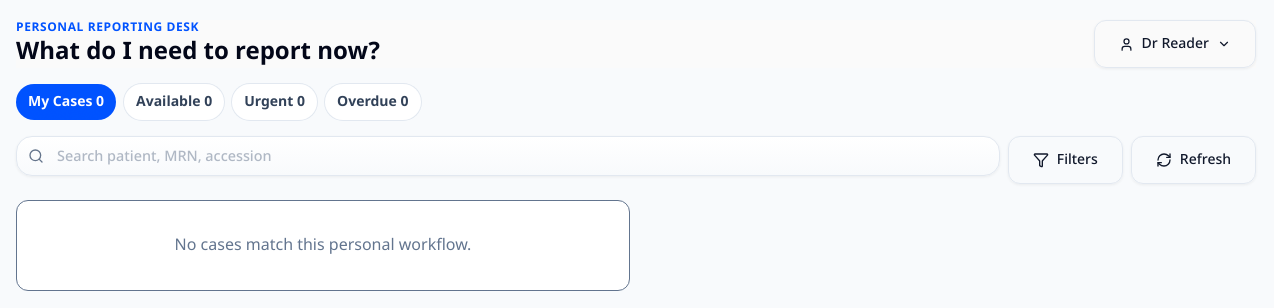
Test: Personal Reporting Desk authentication and current-device notifications › shows unsupported push state without working notification actions
Check: the text "Personal Reporting Desk" is shown, box left=16, top=15, right=199, bottom=40
Click the button "Dr Reader" at (1175, 44), box left=1094, top=20, right=1256, bottom=68
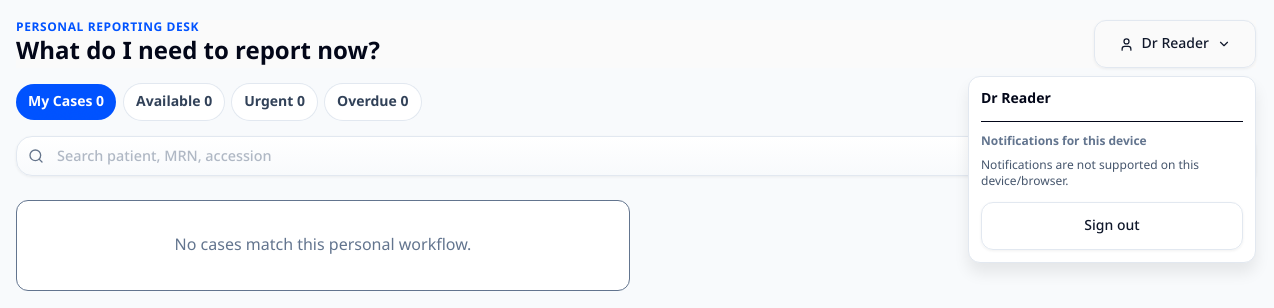
Check: the text "Notifications are not supported on this device/browser." is shown, box left=981, top=153, right=1199, bottom=194
